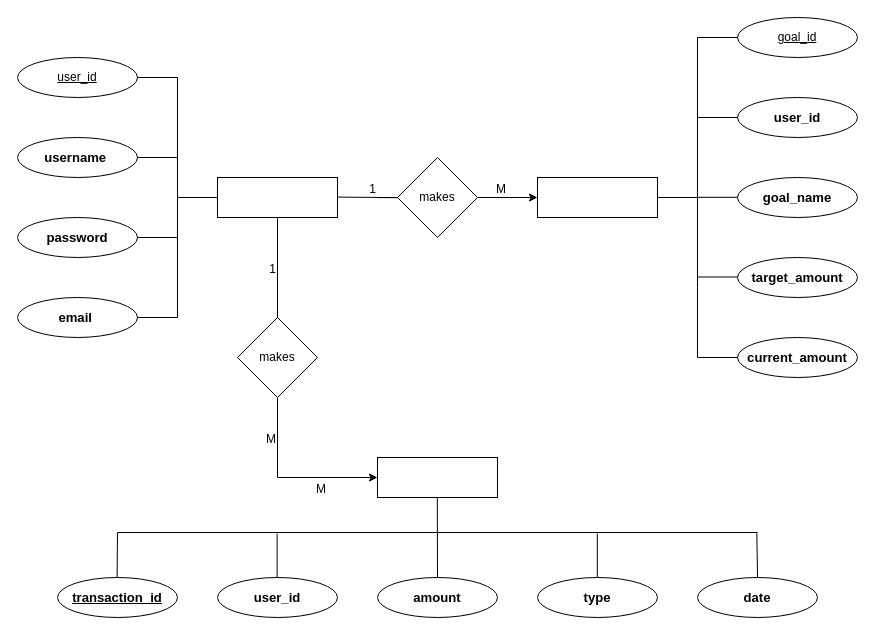
This 875x637 diagram has some shape labels left out. Each missing label, with the box of its shape:
goals: (536, 176, 658, 218)
transactions: (376, 456, 498, 498)
users: (216, 176, 338, 218)
